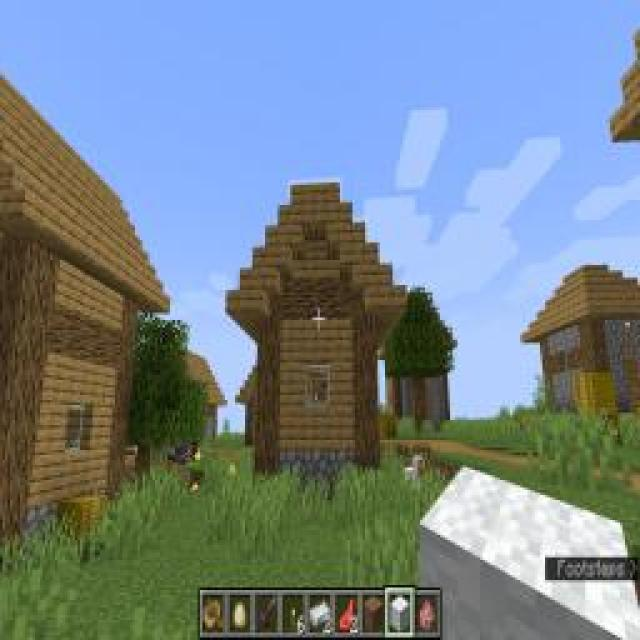Villager: (224, 175, 408, 477), (522, 260, 638, 425)
